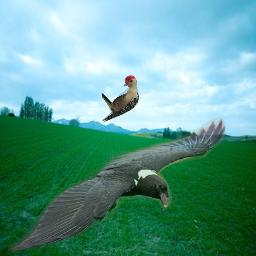Crow: (8, 118, 226, 254)
Woodpecker: (102, 75, 139, 123)
